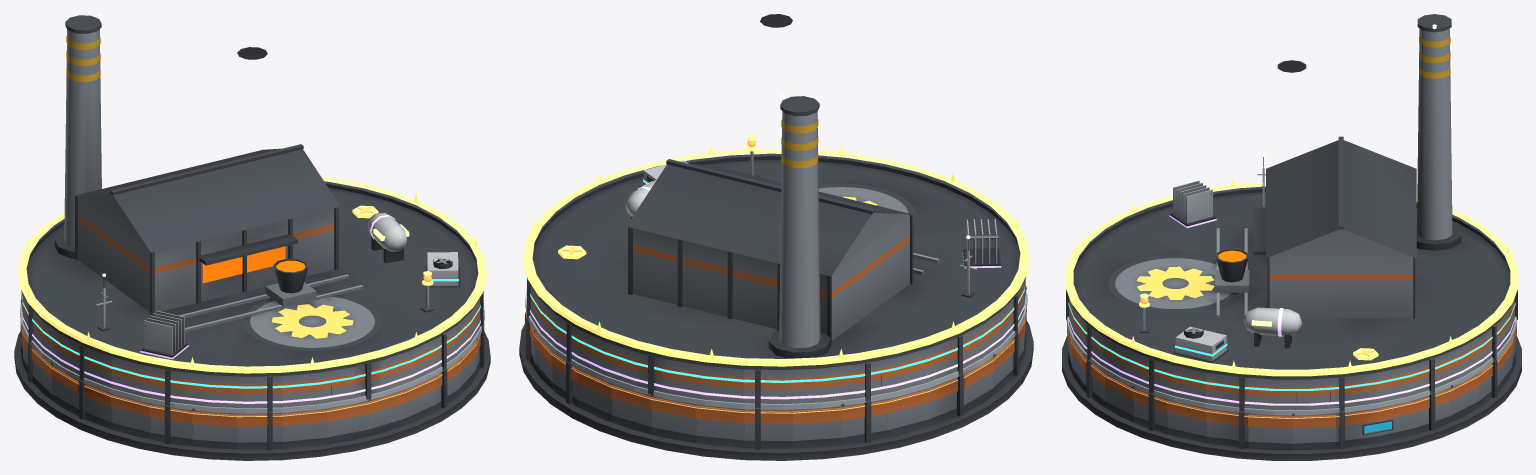
The model's file is steel_mill_m.glb.
3 renders of one model, left to right at view 1: azimuth 30°, elevation 25°; view 2: azimuth 150°, elevation 25°; view 3: azimuth 270°, elevation 25°, orthographic. The views are drawn at different scales.
Visible parts, largest first — view 1: Roof, Base, L4, Wall_21, Wall_20, Wall_22, Wall_19, Wall_23, Wall_18, Upper_21, Wall_24, Upper_22 (+20 smaller); view 2: Roof, Base, Wall_10, Wall_11, Wall_09, Wall_12, Wall_08, L4, Wall_13, Wall_07, Upper_10, Upper_11 (+20 smaller); view 3: Roof, Base, L4, Wall_00, Wall_31, Wall_30, L3, Wall_29, Wall_01, Wall_02, Wall_28, Upper_01 (+19 smaller).
Part boxes in pixels (left/top/right/bottom): Roof: left=22, top=14, right=481, bottom=376; Base: left=14, top=331, right=490, bottom=460; L4: left=140, top=213, right=409, bottom=359; Wall_21: left=237, top=412, right=282, bottom=450; Wall_20: left=192, top=408, right=237, bottom=449; Wall_22: left=282, top=408, right=327, bottom=448; Wall_19: left=149, top=403, right=192, bottom=446; Wall_23: left=326, top=400, right=368, bottom=444; Wall_18: left=111, top=394, right=150, bottom=439; Upper_21: left=237, top=376, right=282, bottom=411; Wall_24: left=368, top=389, right=405, bottom=436; Upper_22: left=282, top=371, right=326, bottom=407; Roof: left=529, top=14, right=1020, bottom=369; Base: left=519, top=321, right=1033, bottom=460; Wall_10: left=743, top=408, right=792, bottom=449; Wall_11: left=792, top=406, right=841, bottom=448; Wall_09: left=695, top=404, right=743, bottom=447; Wall_12: left=841, top=399, right=887, bottom=444; Wall_08: left=651, top=394, right=696, bottom=442; L4: left=625, top=179, right=1001, bottom=268; Wall_13: left=887, top=388, right=929, bottom=437; Wall_07: left=611, top=384, right=651, bottom=434; Upper_10: left=744, top=369, right=792, bottom=408; Upper_11: left=792, top=366, right=840, bottom=403; Roof: left=1072, top=14, right=1511, bottom=379; Base: left=1062, top=335, right=1521, bottom=460; L4: left=1169, top=180, right=1302, bottom=348; Wall_00: left=1292, top=413, right=1335, bottom=450; Wall_31: left=1248, top=413, right=1291, bottom=450; Wall_30: left=1206, top=408, right=1248, bottom=449; L3: left=1173, top=326, right=1229, bottom=362; Wall_29: left=1167, top=399, right=1206, bottom=442; Wall_01: left=1335, top=408, right=1377, bottom=449; Wall_02: left=1377, top=399, right=1416, bottom=442; Wall_28: left=1132, top=386, right=1167, bottom=434; Upper_01: left=1335, top=372, right=1377, bottom=411.
Size of the model in its own units: 14.75 by 10.69 by 14.75.
